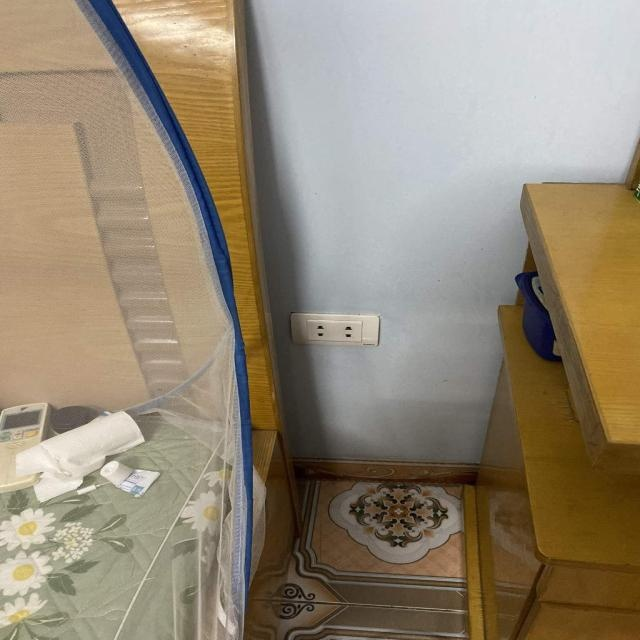outlet: (289, 312, 380, 346)
